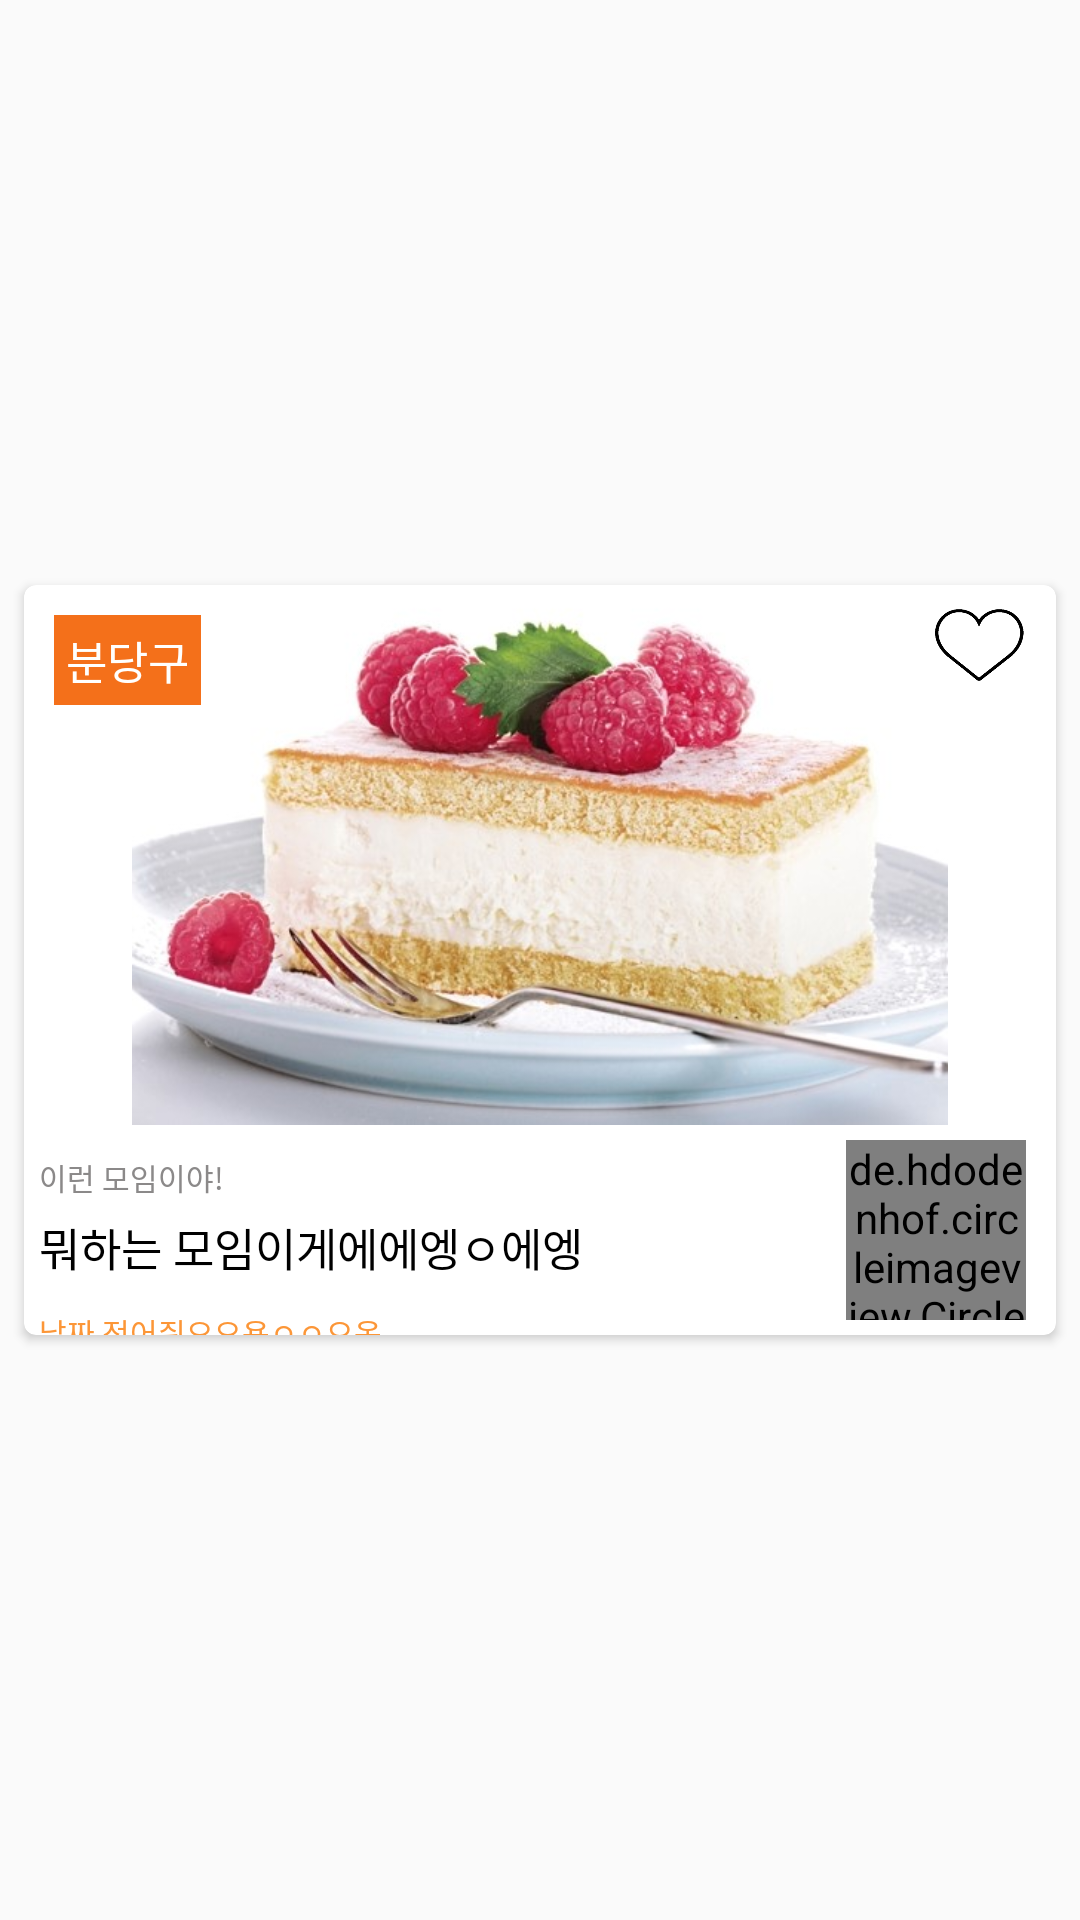

Where to tap for icons on this 1080w x 1920h app screen, as (x=x, y=y):
jjim: (x=979, y=645)
